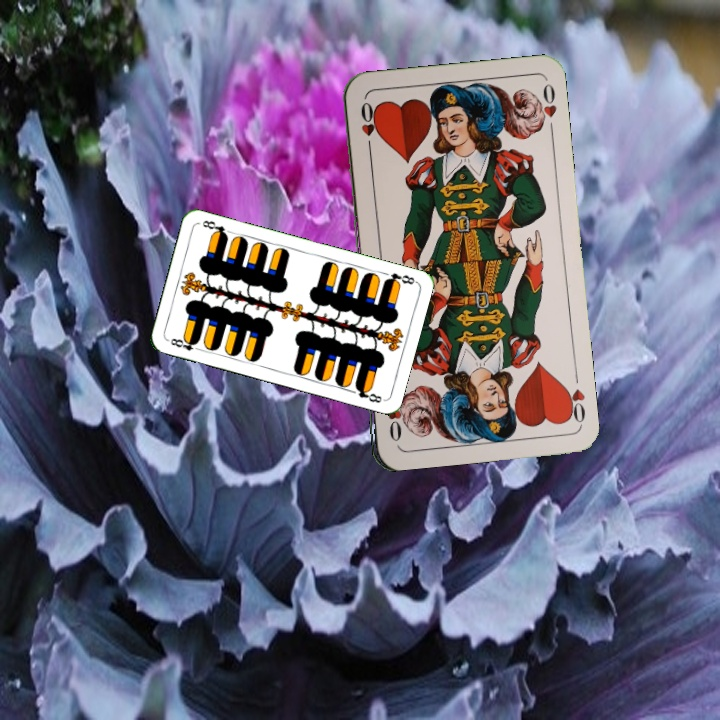E8: (164, 334, 204, 354), (380, 269, 418, 288)
HO: (560, 367, 588, 426), (356, 97, 376, 156)
